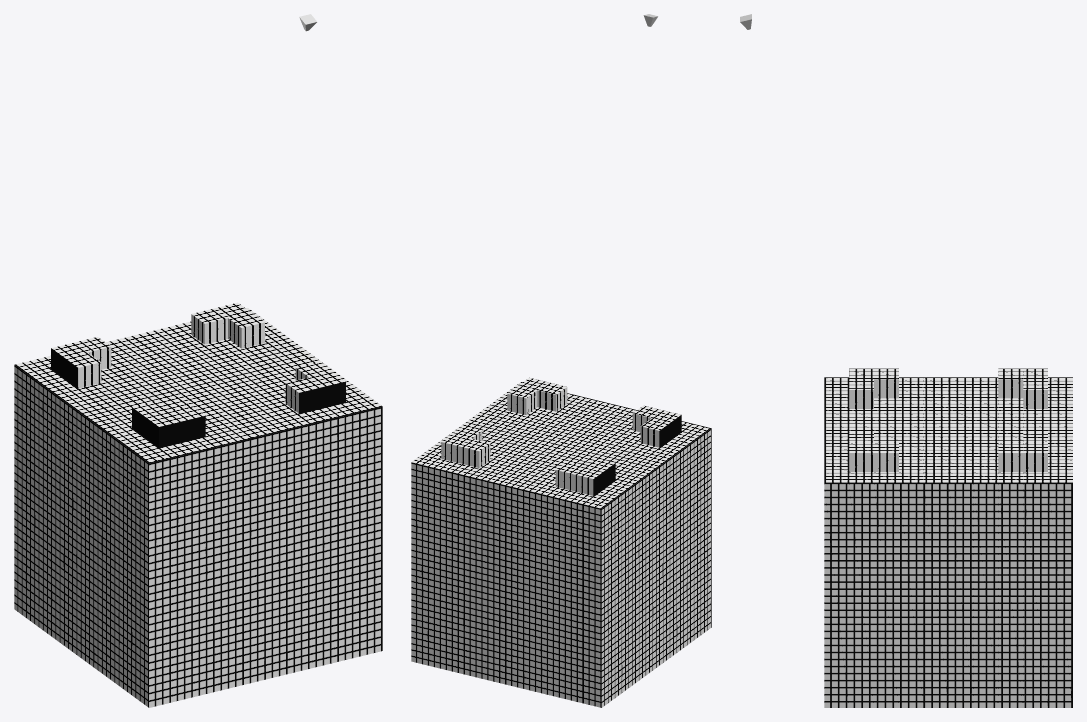
The model's file is planeV2.FBX.
The picture shows the model from 3 angles, left to right: view 1: azimuth 30°, elevation 25°; view 2: azimuth 150°, elevation 25°; view 3: azimuth 270°, elevation 25°; orthographic projection. The views are drawn at different scales.
Parts seen in each view (by area): view 1: Box01, colObj02, colObj03, colObj01, colObj04; view 2: Box01, colObj04, colObj01, colObj03, colObj02; view 3: Box01, colObj01, colObj03, colObj02, colObj04.
Boxes of the visible parts, x1,y1,x2,y2 form: Box01: (14,308,382,707); colObj02: (191,302,264,348); colObj03: (132,402,205,447); colObj01: (51,337,111,388); colObj04: (285,362,345,413); Box01: (411,382,711,707); colObj04: (507,377,567,414); colObj01: (555,458,615,495); colObj03: (632,405,681,447); colObj02: (441,426,490,467); Box01: (824,377,1072,707); colObj01: (998,368,1047,408); colObj03: (849,368,898,408); colObj02: (998,432,1047,471); colObj04: (849,432,898,471).
Bounding box in the file's own units: 200 × 268 × 567.
